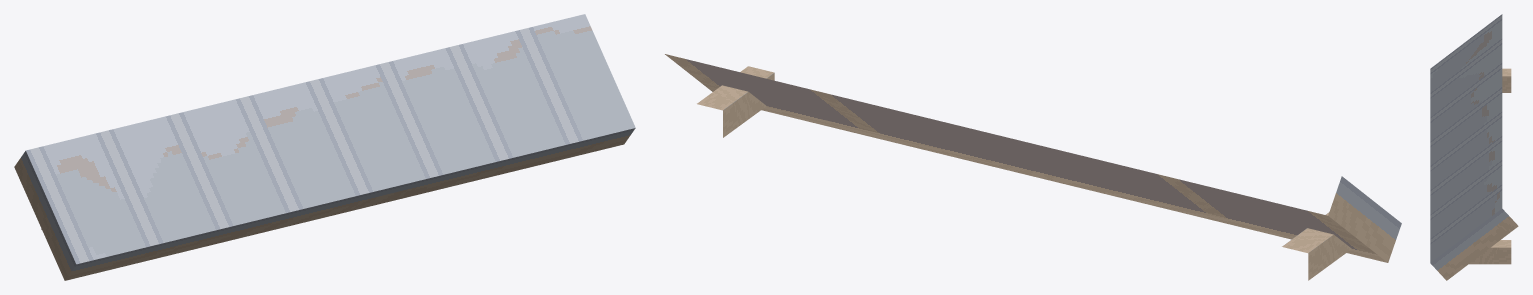
Rendered from kd_stage_135ded_4_60_exterior.glb.
3 renders of one model, left to right at view 1: azimuth 30°, elevation 25°; view 2: azimuth 150°, elevation 25°; view 3: azimuth 270°, elevation 25°, orthographic. The views are drawn at different scales.
Parts seen in each view (by area): view 1: kd_stage_135ded_4_60_exterior; view 2: kd_stage_135ded_4_60_exterior; view 3: kd_stage_135ded_4_60_exterior.
Part boxes in pixels (<box>): kd_stage_135ded_4_60_exterior: <box>14,14,635,280</box>; kd_stage_135ded_4_60_exterior: <box>665,54,1401,280</box>; kd_stage_135ded_4_60_exterior: <box>1430,14,1518,280</box>.
Bounding box in the file's own units: 1.26 × 0.2186 × 0.2416.
1 material, 1 textured.
